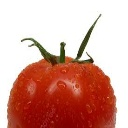tomato: (7, 55, 116, 128)
